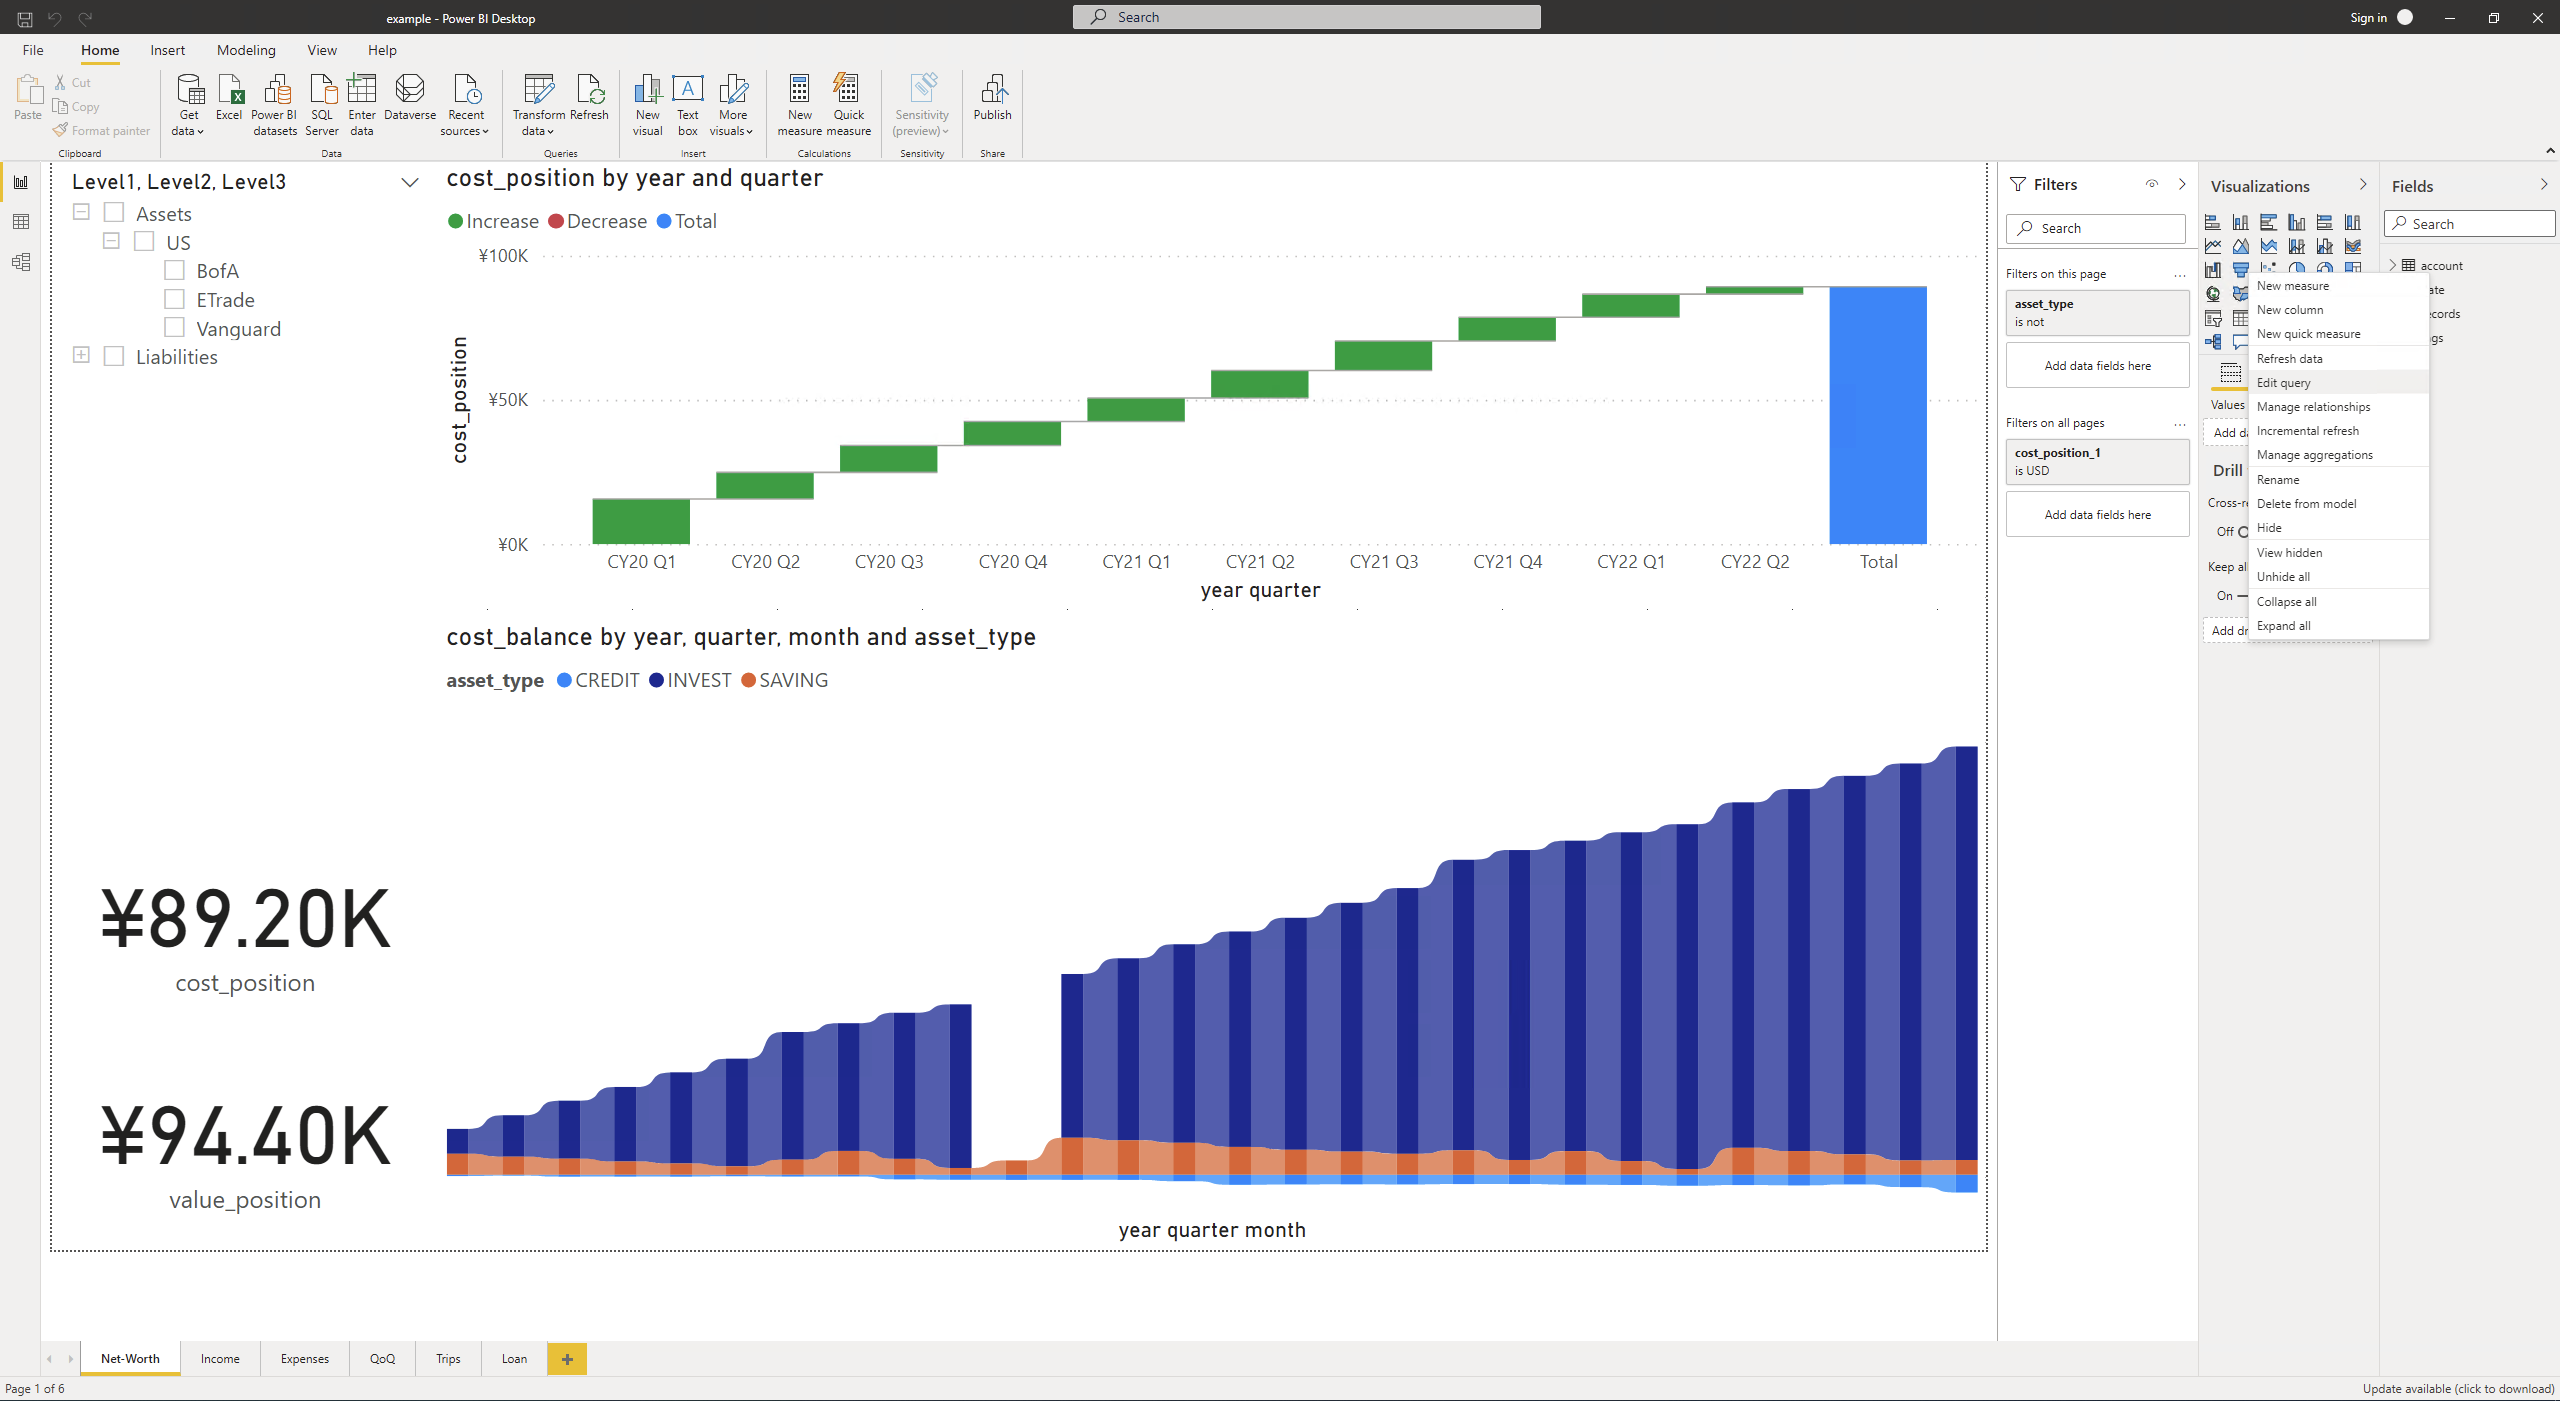

The dashboard page shown, as its layout file describes it:
{"tool":"powerbi","page":{"name":"Net-Worth","canvas":[1280,720],"ordinal":0},"visuals":[{"type":"waterfallChart","fields":{"Y":["Sum(records.cost_position)"],"Category":["date.actual_cal.year","date.actual_cal.quarter","date.actual_cal.month"]},"box":[256,0,1024,296],"z":0},{"type":"slicer","fields":{"Values":["account.category.Level1","account.category.Level2","account.category.Level3"]},"box":[0,0,256,432],"z":1000},{"type":"card","fields":{"Values":["Sum(records.cost_position)"]},"box":[0,432,256,144],"z":2000},{"type":"card","fields":{"Values":["Sum(records.value_position)"]},"box":[0,576,256,144],"z":3000},{"type":"ribbonChart","fields":{"Category":["date.actual_cal.year","date.actual_cal.quarter","date.actual_cal.month"],"Y":["records.cost_balance"],"Series":["account.asset_type"]},"box":[256,304,1024,416],"z":4000}]}

Visuals, with their boxes on the page's 1280x720 design canvas (x1, y1, x2, y2). These are canvas units, not pixel positions in the 2560x1401 screenshot, which may show the page scaled, cropped or inside an application window:
waterfallChart - Sum(records.cost_position) x date.actual_cal.year: x1=256 y1=0 x2=1280 y2=296
slicer - account.category.Level1 x account.category.Level2: x1=0 y1=0 x2=256 y2=432
card - Sum(records.cost_position): x1=0 y1=432 x2=256 y2=576
card - Sum(records.value_position): x1=0 y1=576 x2=256 y2=720
ribbonChart - date.actual_cal.year x date.actual_cal.quarter: x1=256 y1=304 x2=1280 y2=720
